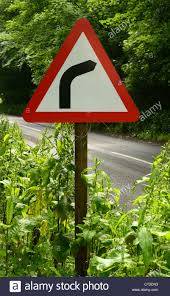Bend_to_right: (19, 16, 143, 123)
